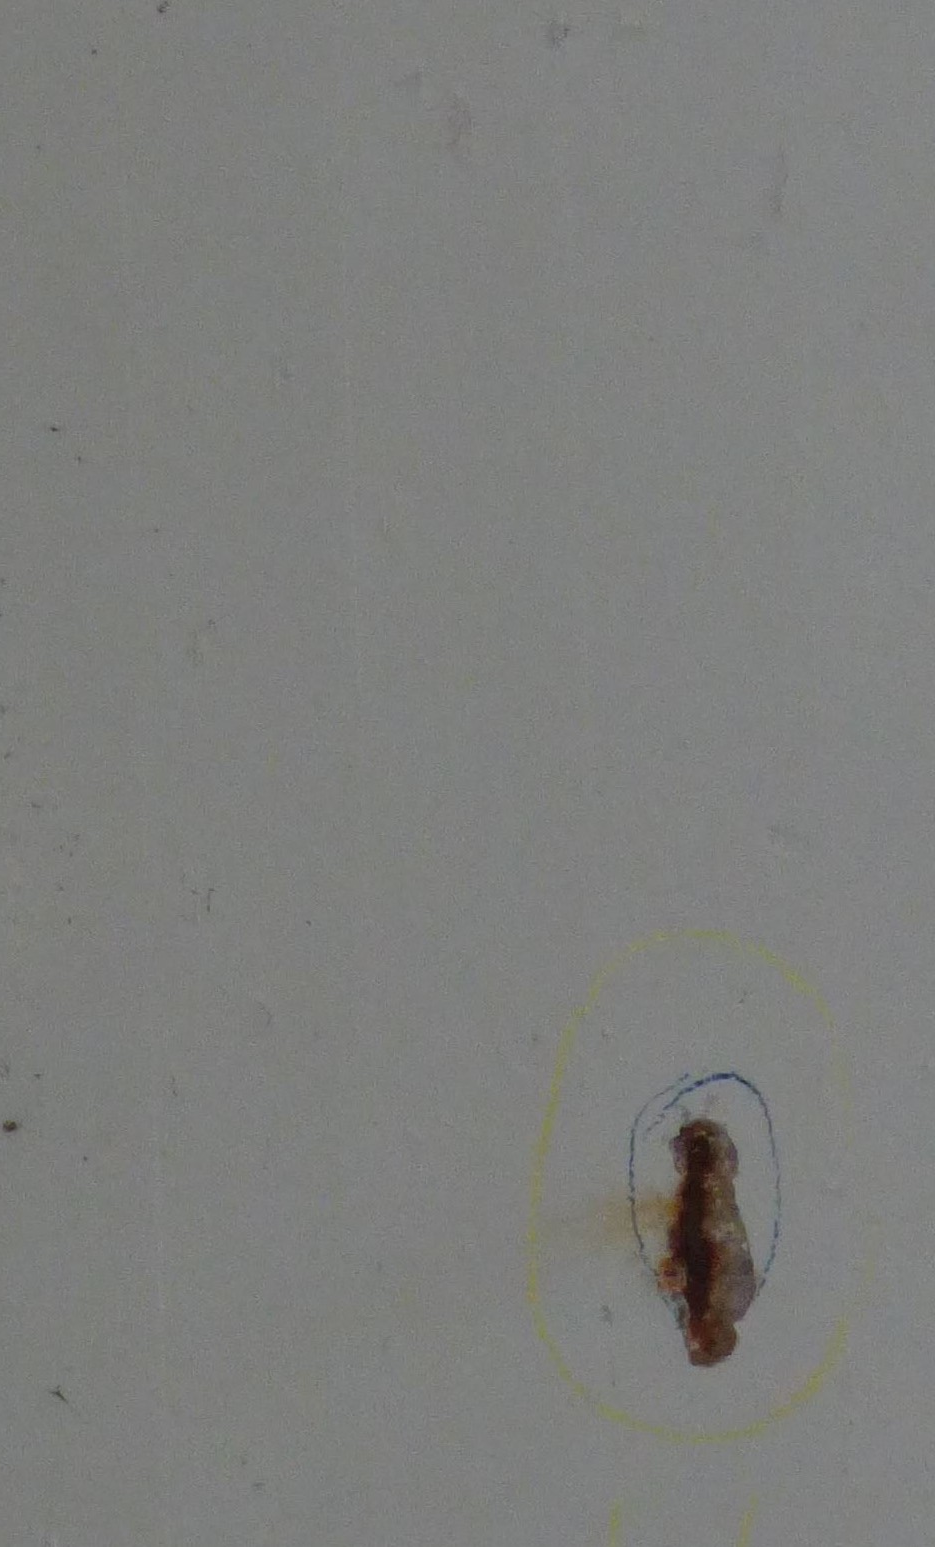Exposed reinforcement: (683, 1135, 715, 1323)
Spalling: (656, 1117, 757, 1368)
